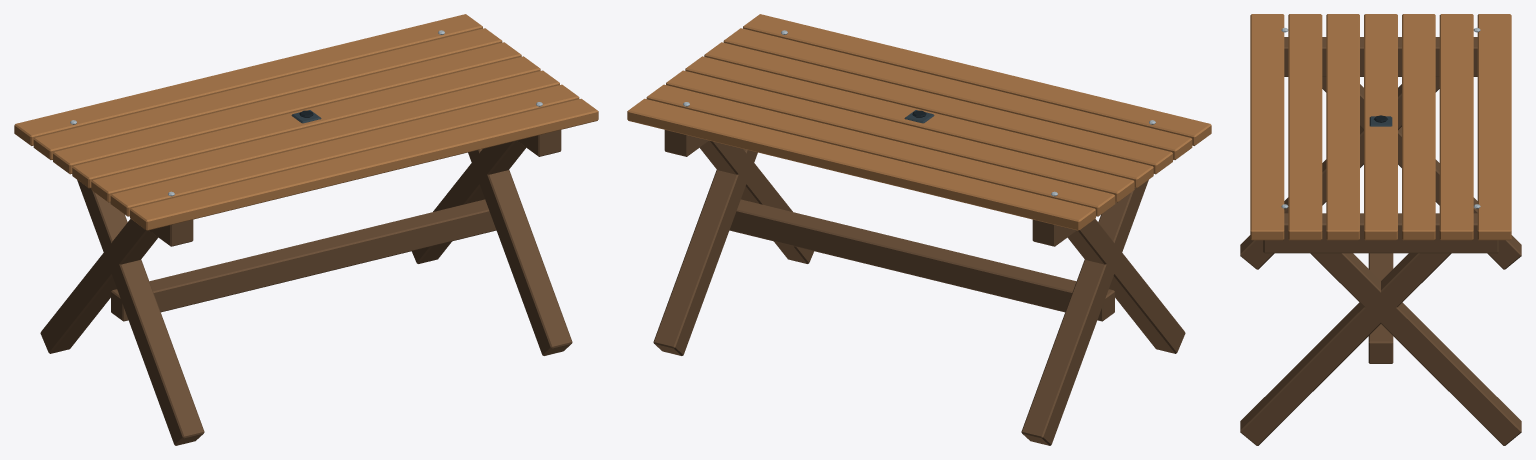
Rendered from b11_rectangular_cedar_patio_table.glb.
The picture shows the model from 3 angles, left to right: view 1: azimuth 30°, elevation 25°; view 2: azimuth 150°, elevation 25°; view 3: azimuth 270°, elevation 25°; orthographic projection.
Parts seen in each view (by area): view 1: b11_rectangular_cedar_patio_table; view 2: b11_rectangular_cedar_patio_table; view 3: b11_rectangular_cedar_patio_table.
Part boxes in pixels (<box>): b11_rectangular_cedar_patio_table: <box>14,14,598,445</box>; b11_rectangular_cedar_patio_table: <box>627,14,1211,445</box>; b11_rectangular_cedar_patio_table: <box>1240,14,1521,445</box>.
Bounding box in the file's own units: 1.55 × 0.7865 × 0.8501.
